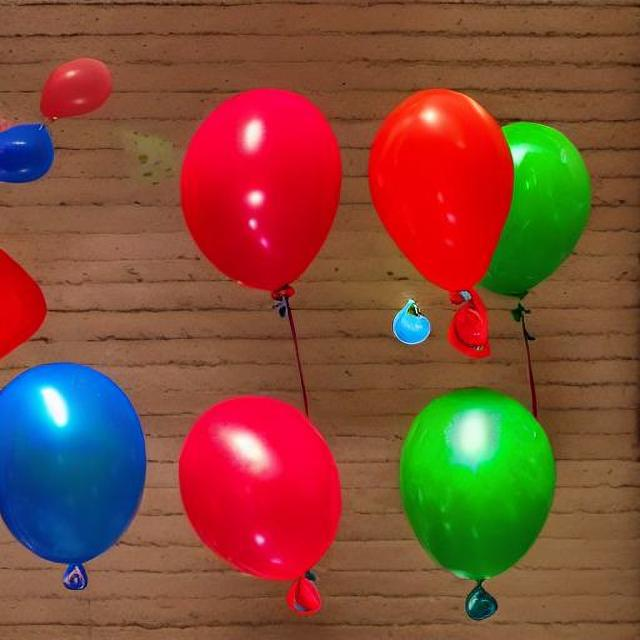balloon: (357, 88, 592, 345), (167, 83, 344, 311), (171, 382, 343, 608), (392, 381, 557, 614), (0, 358, 149, 579), (0, 237, 78, 356), (2, 115, 66, 214), (34, 55, 114, 121)
floating object: (392, 298, 430, 344)
